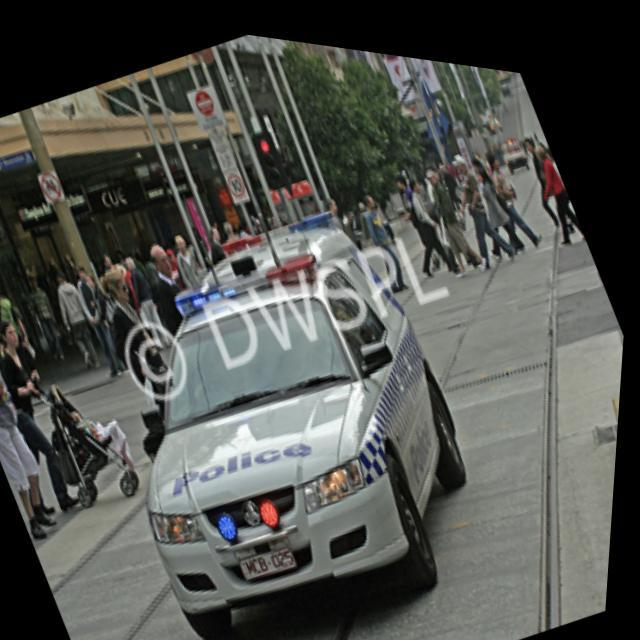license_plate: (240, 522, 306, 580)
